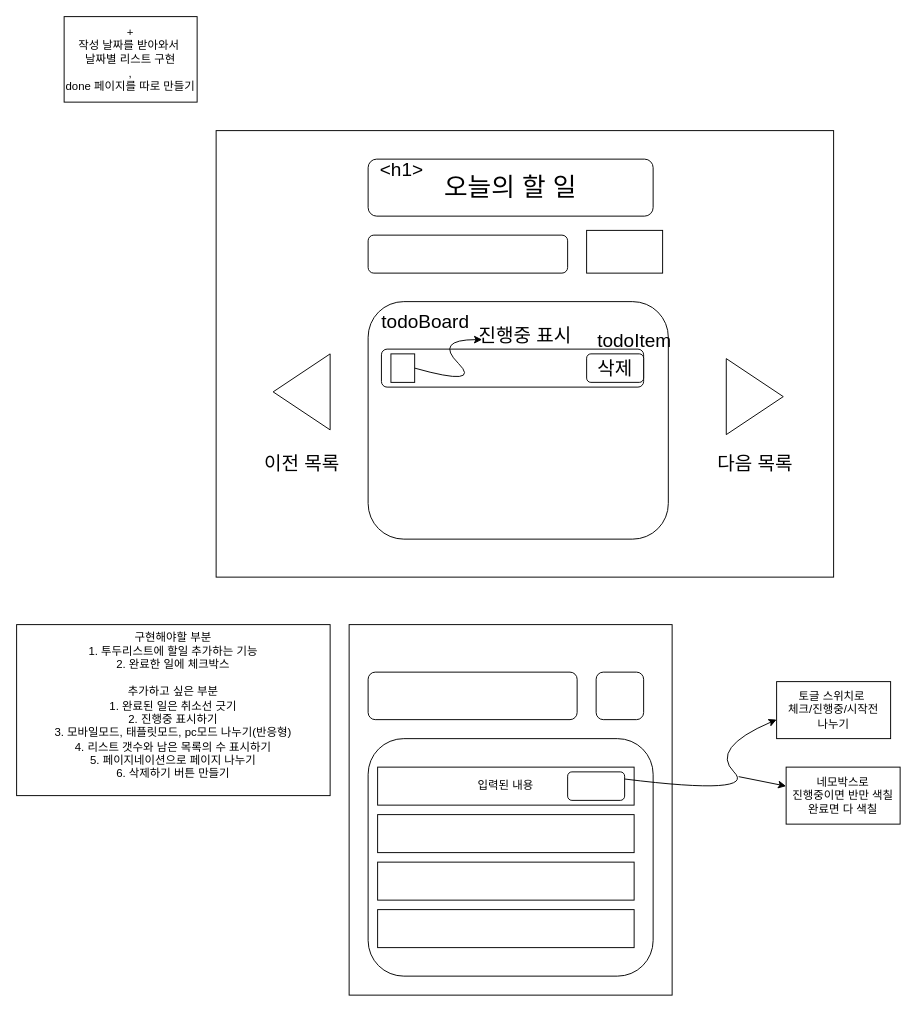
Image size: 917x1012. Some labels were removed from this diagram. Each missing label, with the centre of its shape:
등록버튼: the point at 619,695
입력창: the point at 472,695
입력칸: the point at 467,253
추가하기: the point at 624,251
